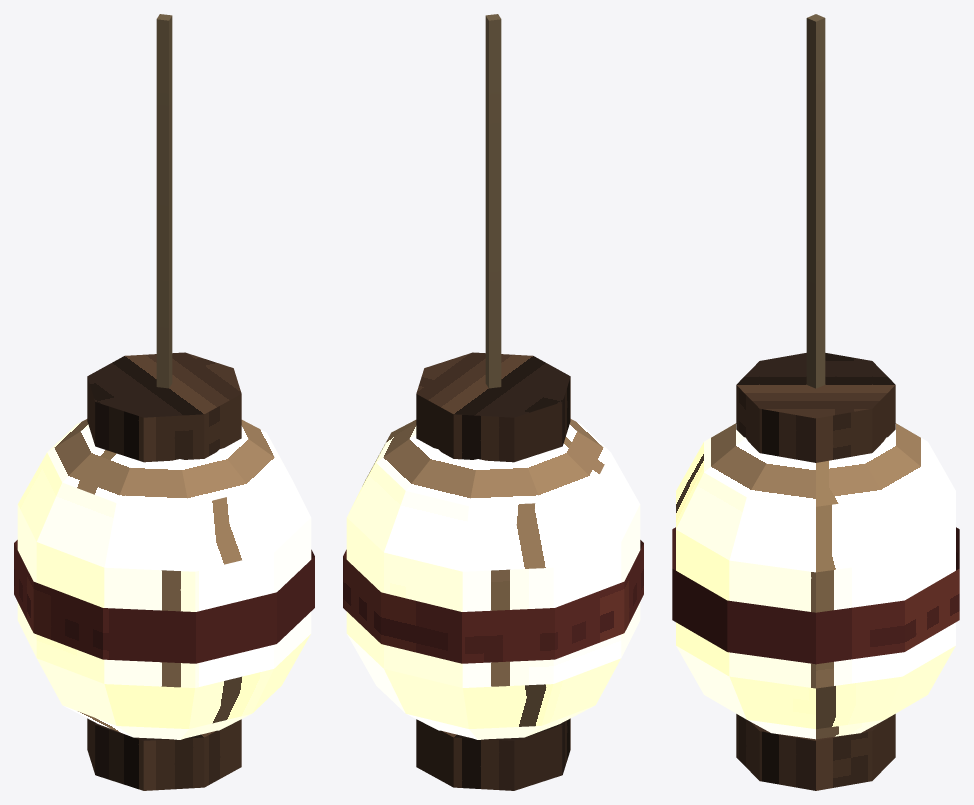
The model's file is JP_Prop_LanternHanging_B.glb.
3 views of the same model, side by side, from view 1: azimuth 30°, elevation 25°; view 2: azimuth 150°, elevation 25°; view 3: azimuth 270°, elevation 25° (orthographic).
Parts seen in each view (by area): view 1: JP_Prop_LanternHanging_B; view 2: JP_Prop_LanternHanging_B; view 3: JP_Prop_LanternHanging_B.
Boxes of the visible parts, x1=… form: JP_Prop_LanternHanging_B: x1=14, y1=14, x2=314, y2=790; JP_Prop_LanternHanging_B: x1=343, y1=14, x2=643, y2=790; JP_Prop_LanternHanging_B: x1=672, y1=14, x2=959, y2=790.
Size of the model in its own units: 0.492 by 1.33 by 0.4679.
4 materials, 4 textured.
